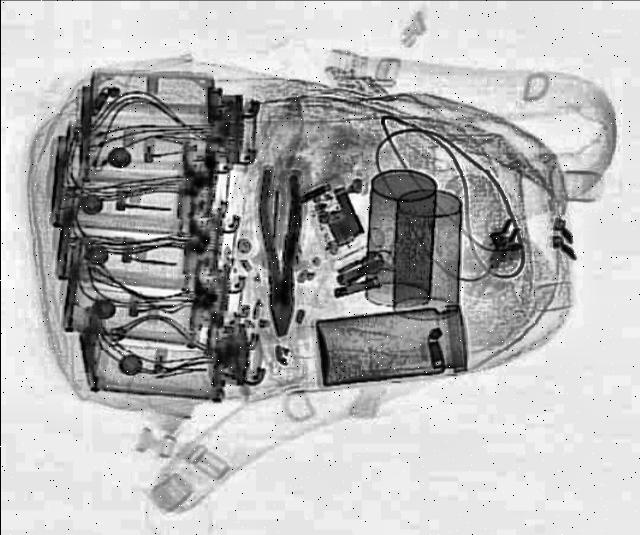Pliers: (258, 168, 304, 334)
